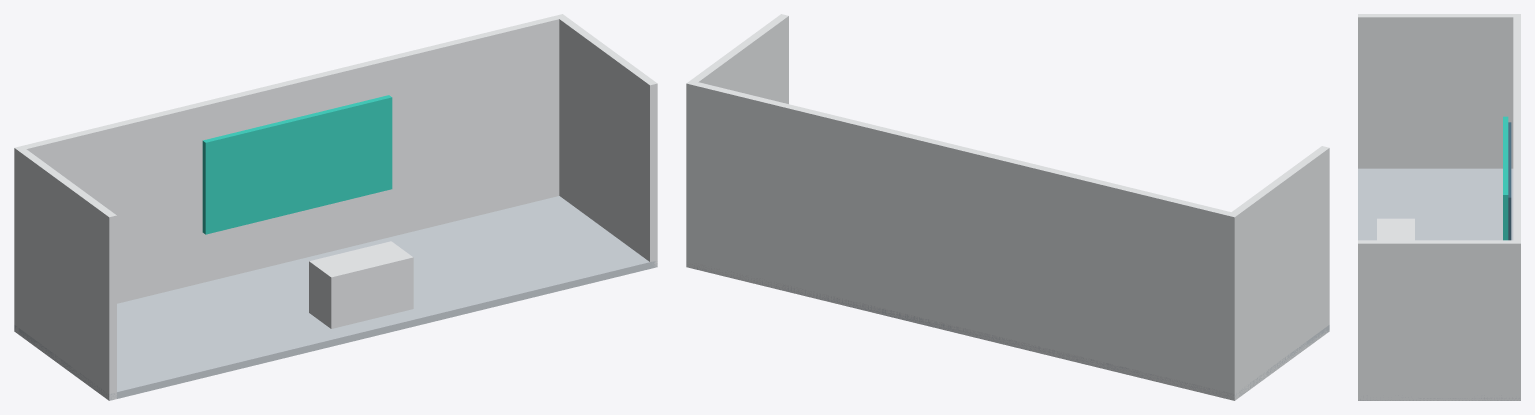
The picture shows the model from 3 angles, left to right: view 1: azimuth 30°, elevation 25°; view 2: azimuth 150°, elevation 25°; view 3: azimuth 270°, elevation 25°; orthographic projection. The views are drawn at different scales.
Visible parts, largest first — view 1: Exhibition Booth Concept; view 2: Exhibition Booth Concept; view 3: Exhibition Booth Concept.
Part boxes in pixels (<box>): Exhibition Booth Concept: <box>14,14,657,400</box>; Exhibition Booth Concept: <box>686,14,1329,400</box>; Exhibition Booth Concept: <box>1358,14,1520,400</box>.
Bounding box in the file's own units: 10 × 3.2 × 3.
